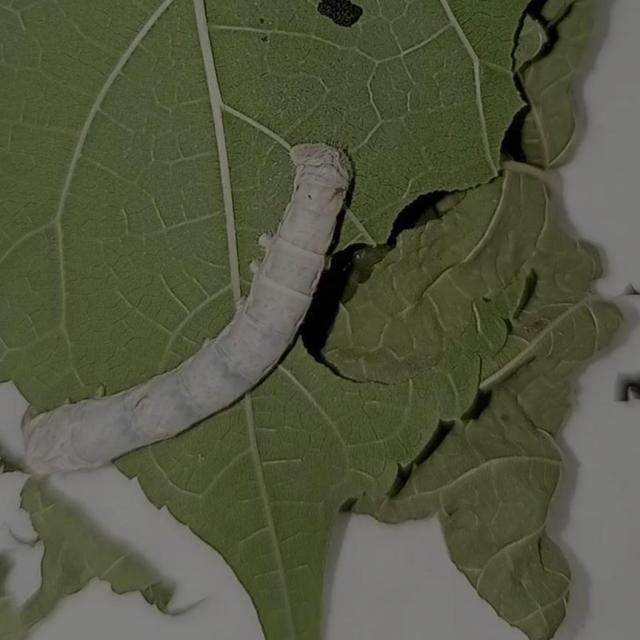Healthy: (19, 105, 358, 495)
